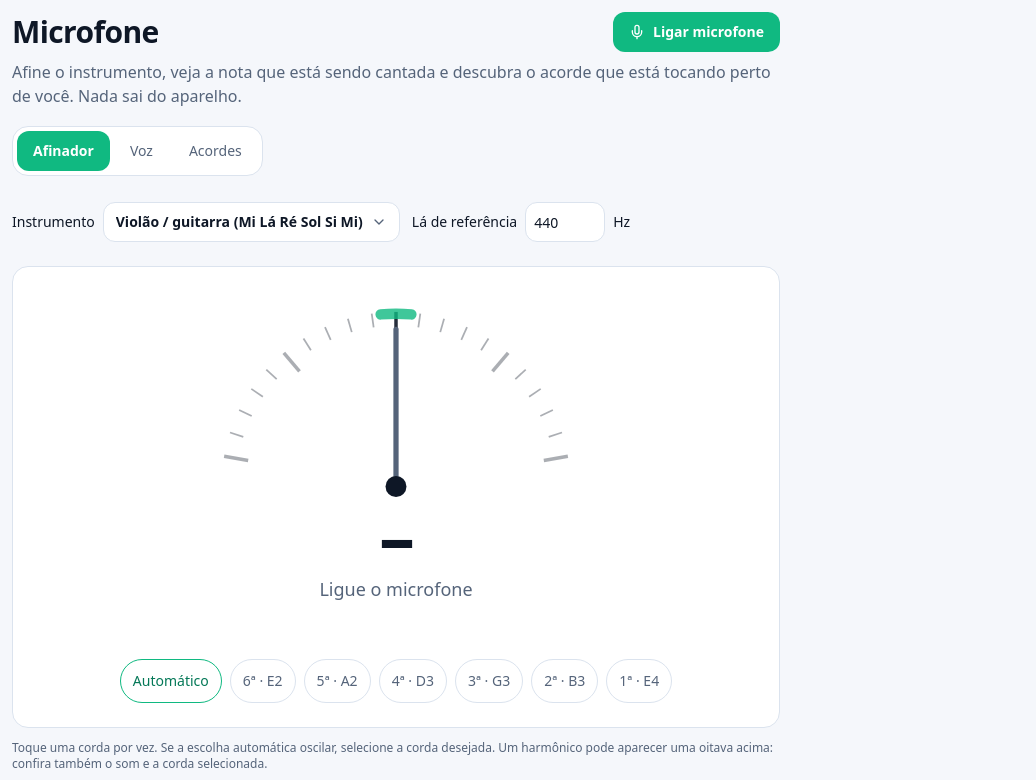
Scenario: microphone lifecycle and controls › releases a permission request that finishes after the page becomes hidden
Click the button "Ligar microfone": (696, 32) [613,12,780,52]
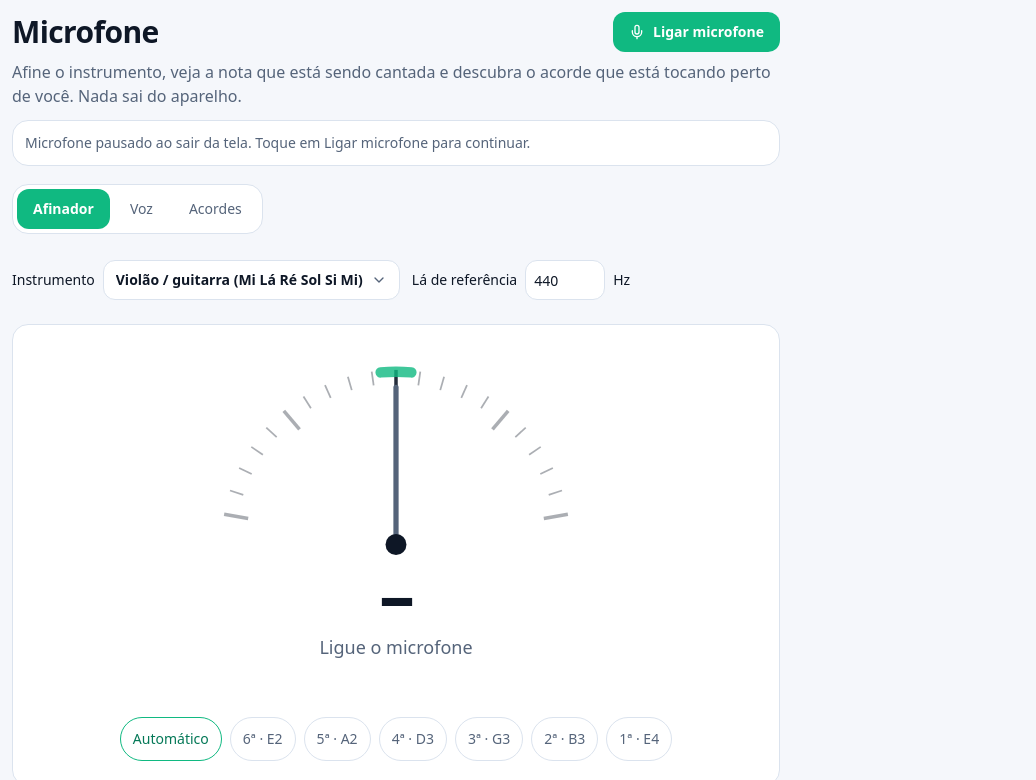
Expected: the text "Microfone pausado ao sair da tela. Toque em Ligar microfone para continuar." is shown, [12,120,780,166]
